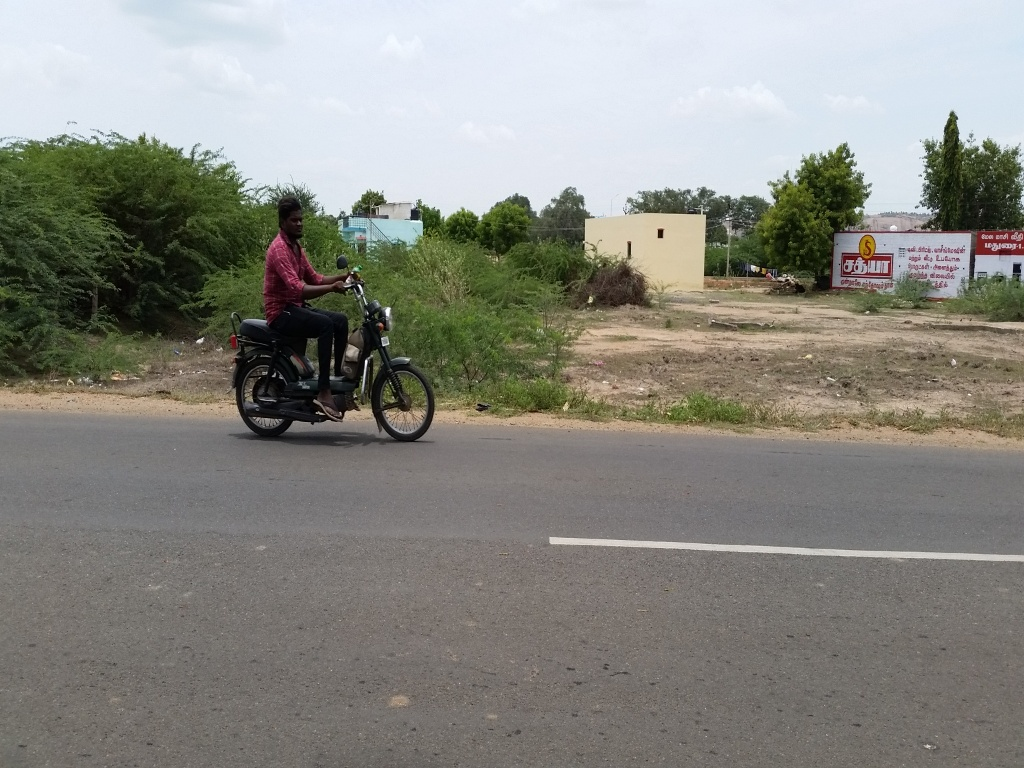biker: (218, 167, 443, 451)
nohelmet: (268, 185, 322, 257)
